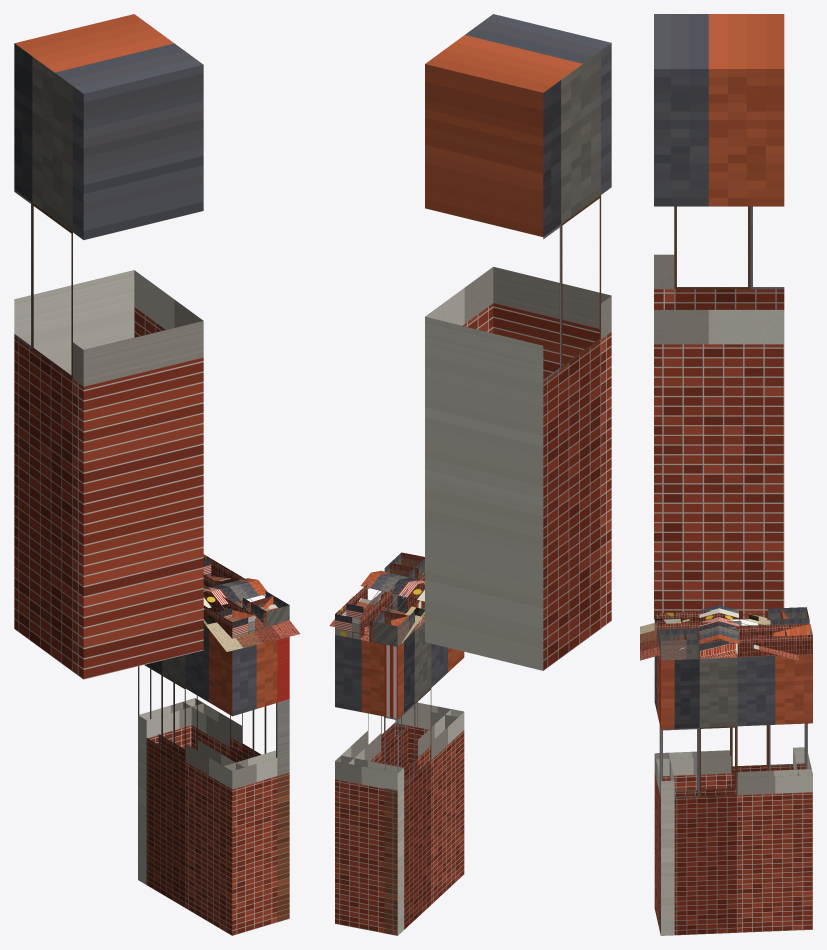
The picture shows the model from 3 angles, left to right: view 1: azimuth 30°, elevation 25°; view 2: azimuth 150°, elevation 25°; view 3: azimuth 270°, elevation 25°; orthographic projection. The views are drawn at different scales.
Visible parts, largest first — view 1: 238572331__chimney_0_xb, 238572331__wall_2_xb, 238572331__wall_3_xb, 238572331__wall_0_xb, 238572331__wall_1_xb, 238572331_roof_-1_xb, 238572331__cornice_0, 238572331__cornice_2, 238572331__cornice_3; view 2: 238572331__chimney_0_xb, 238572331__wall_2_xb, 238572331__wall_1_xb, 238572331__wall_0_xb, 238572331__wall_3_xb, 238572331_roof_1_xb, 238572331__cornice_0, 238572331__cornice_1, 238572331__cornice_2; view 3: 238572331__chimney_0_xb, 238572331__wall_0_xb, 238572331__wall_3_xb, 238572331__wall_2_xb, 238572331__cornice_0, 238572331__cornice_2, 238572331_roof_-1_xb, 238572331_roof_1_xb, 238572331__cornice_3.
Part boxes in pixels (<box>): 238572331__chimney_0_xb: <box>14,14,203,679</box>; 238572331__wall_2_xb: <box>138,626,243,935</box>; 238572331__wall_3_xb: <box>224,640,277,935</box>; 238572331__wall_0_xb: <box>183,595,289,922</box>; 238572331__wall_1_xb: <box>138,664,203,884</box>; 238572331_roof_-1_xb: <box>203,580,299,651</box>; 238572331__cornice_0: <box>203,556,289,627</box>; 238572331__cornice_2: <box>203,585,254,638</box>; 238572331__cornice_3: <box>217,595,273,636</box>; 238572331__chimney_0_xb: <box>425,14,611,670</box>; 238572331__wall_2_xb: <box>384,607,464,935</box>; 238572331__wall_1_xb: <box>335,635,403,935</box>; 238572331__wall_0_xb: <box>341,591,414,769</box>; 238572331__wall_3_xb: <box>395,600,457,764</box>; 238572331_roof_1_xb: <box>329,572,424,643</box>; 238572331__cornice_0: <box>335,553,424,639</box>; 238572331__cornice_1: <box>335,603,408,646</box>; 238572331__cornice_2: <box>373,573,424,646</box>; 238572331__chimney_0_xb: <box>654,14,784,619</box>; 238572331__wall_0_xb: <box>659,654,812,935</box>; 238572331__wall_3_xb: <box>654,655,674,935</box>; 238572331__wall_2_xb: <box>656,641,807,790</box>; 238572331__cornice_0: <box>658,624,812,660</box>; 238572331__cornice_2: <box>654,607,809,641</box>; 238572331_roof_-1_xb: <box>640,605,719,660</box>; 238572331_roof_1_xb: <box>719,605,798,660</box>; 238572331__cornice_3: <box>654,612,686,660</box>.
Size of the model in its own units: 0.262 by 1.05 by 0.1993.
1 material, 1 textured.
